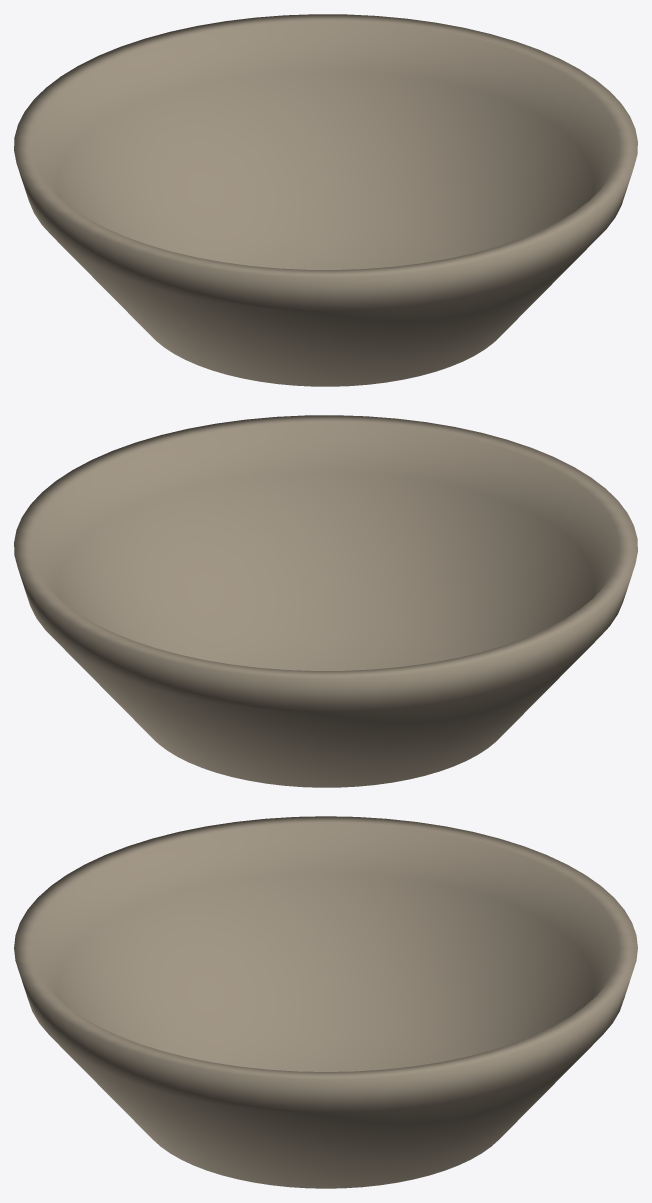
The model's file is traditional.bowl.gltf.
3 views of the same model, one above another, from view 1: azimuth 30°, elevation 25°; view 2: azimuth 150°, elevation 25°; view 3: azimuth 270°, elevation 25° (orthographic).
Visible parts, largest first — view 1: traditional.bowl.stoneware; view 2: traditional.bowl.stoneware; view 3: traditional.bowl.stoneware.
Part boxes in pixels (x1=…): traditional.bowl.stoneware: x1=14, y1=14, x2=637, y2=386; traditional.bowl.stoneware: x1=14, y1=415, x2=637, y2=787; traditional.bowl.stoneware: x1=14, y1=816, x2=637, y2=1188.
Size of the model in its own units: 0.29 by 0.09 by 0.29.
